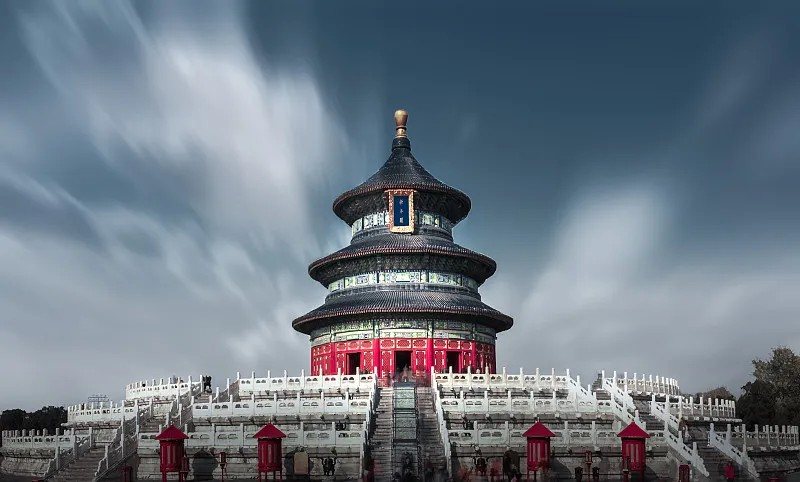Heaven: (292, 108, 516, 383)
